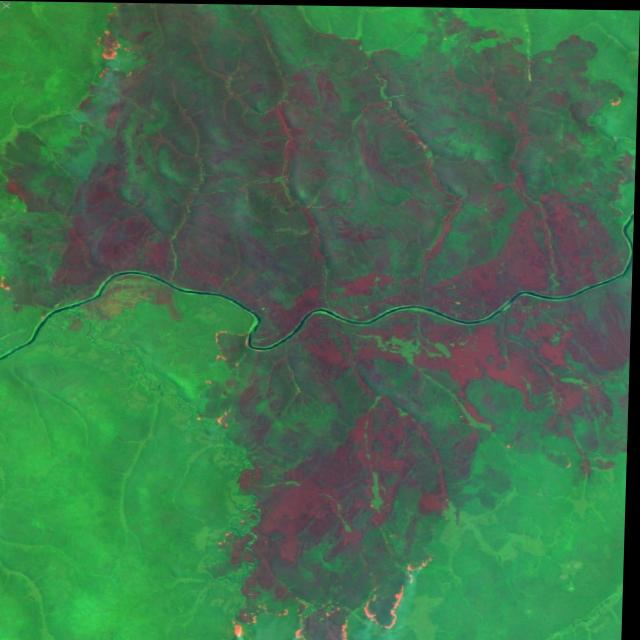fire: (220, 539, 447, 640), (185, 321, 259, 436), (81, 11, 146, 84), (0, 269, 27, 297)
